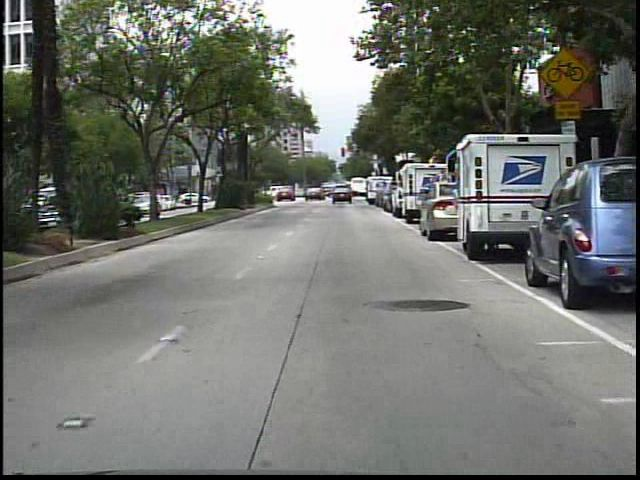person: (343, 183, 356, 203)
